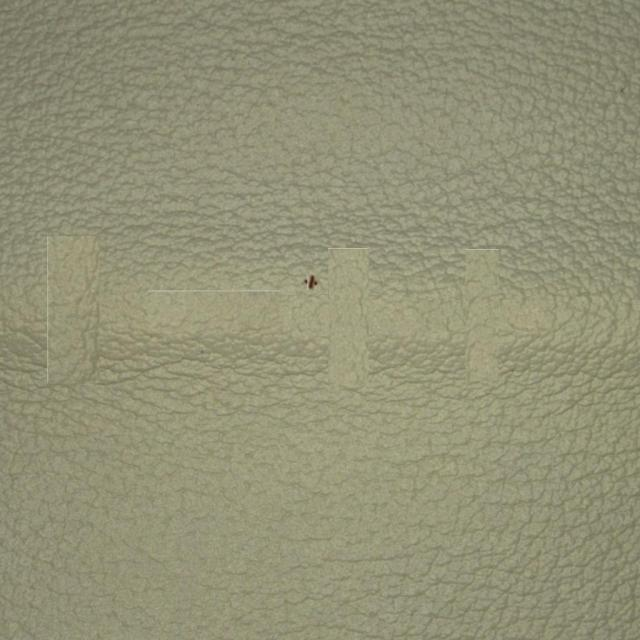Healed Injury: (29, 219, 556, 404)
pinhole: (244, 208, 410, 338)
